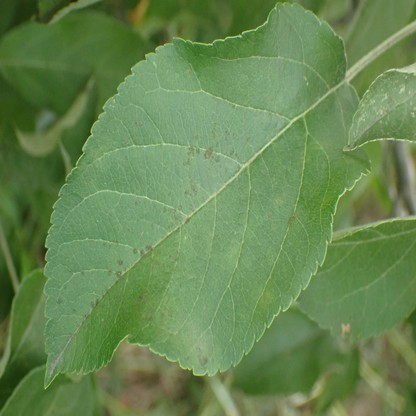powdery_mildew: (48, 350, 63, 379)
scab: (148, 245, 186, 287), (141, 292, 174, 333), (78, 146, 115, 173), (228, 228, 244, 262), (253, 285, 273, 310), (264, 248, 281, 265), (196, 345, 208, 365), (188, 172, 198, 194), (384, 98, 395, 115), (225, 128, 237, 143), (173, 204, 182, 222), (273, 198, 283, 211), (287, 215, 295, 230), (90, 297, 100, 308), (83, 323, 94, 333), (211, 155, 221, 165), (204, 148, 213, 159), (127, 226, 135, 237), (211, 122, 216, 138), (187, 148, 194, 157), (144, 245, 153, 252), (183, 159, 191, 166), (184, 216, 191, 224), (55, 298, 63, 305), (151, 222, 156, 232), (116, 259, 124, 265), (183, 355, 190, 361), (80, 270, 86, 277), (116, 270, 122, 277), (246, 134, 251, 142), (63, 283, 69, 289), (133, 200, 139, 206), (196, 147, 200, 155), (76, 321, 80, 329), (229, 149, 234, 155), (82, 314, 88, 319), (231, 102, 236, 108), (107, 269, 112, 275), (114, 294, 119, 300), (163, 206, 168, 212), (157, 220, 162, 226), (184, 190, 188, 197), (115, 241, 119, 248), (194, 134, 199, 139), (161, 191, 166, 196), (133, 247, 137, 253), (168, 189, 172, 195), (216, 142, 220, 147), (102, 241, 107, 245), (72, 307, 76, 312)
